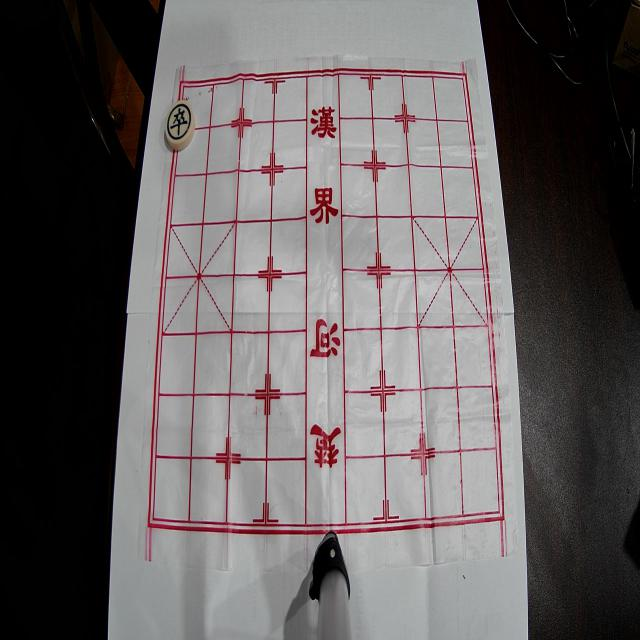black-soldier: (165, 100, 195, 150)
